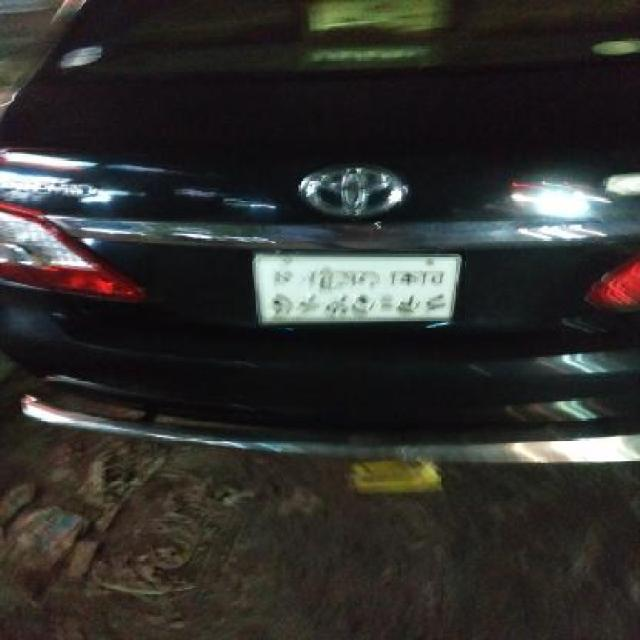numberplate: (252, 249, 465, 328)
